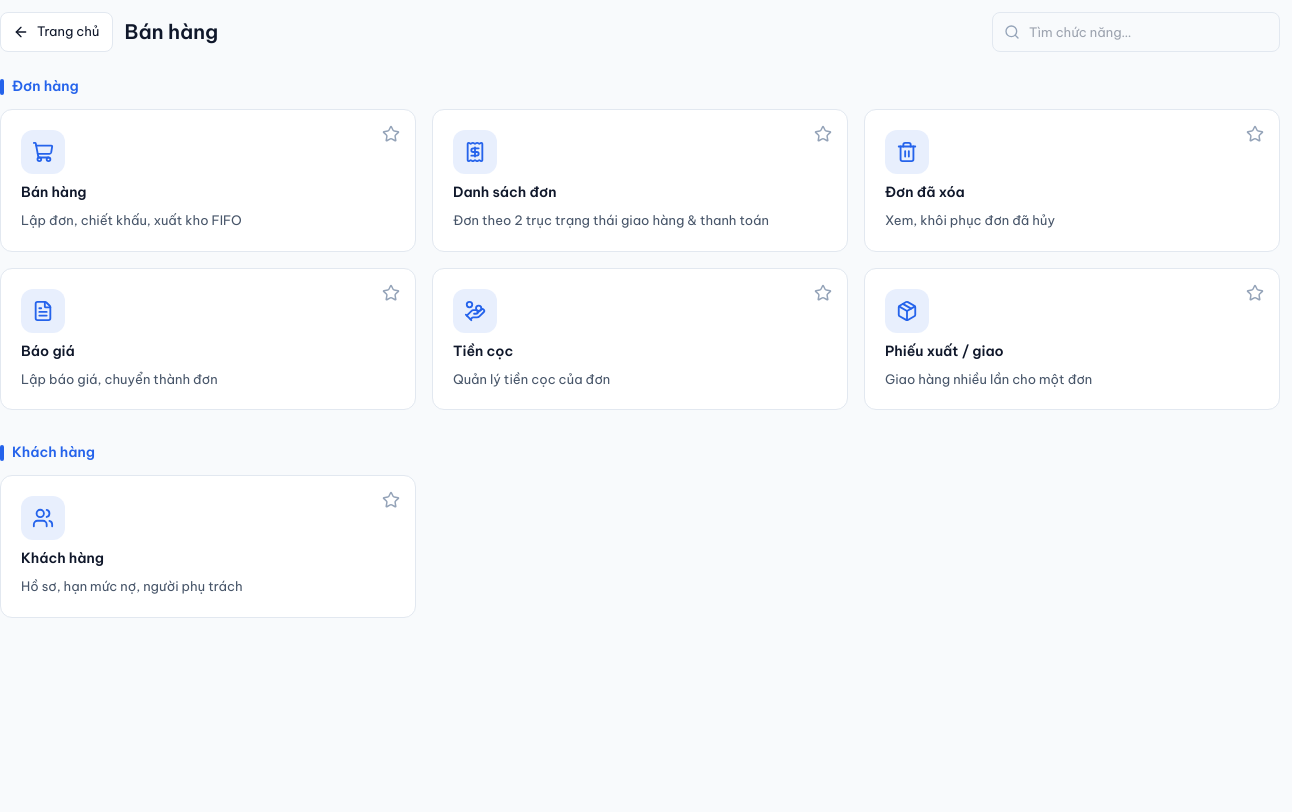
Test: ModuleLanding (tab Chức năng) — ngôi sao yêu thích › giữ card theo nhóm; bấm sao ghim/bỏ ghim mà KHÔNG mở chức năng (hai hành động độc lập)
The width and height of the screenshot is (1292, 812).
Expected: the heading "Đơn hàng" is shown, top-left (0, 77), bottom-right (79, 95)
Click the button named "Thêm Báo giá vào yêu thích" at [391, 292], box top-left (375, 276), bottom-right (407, 308)
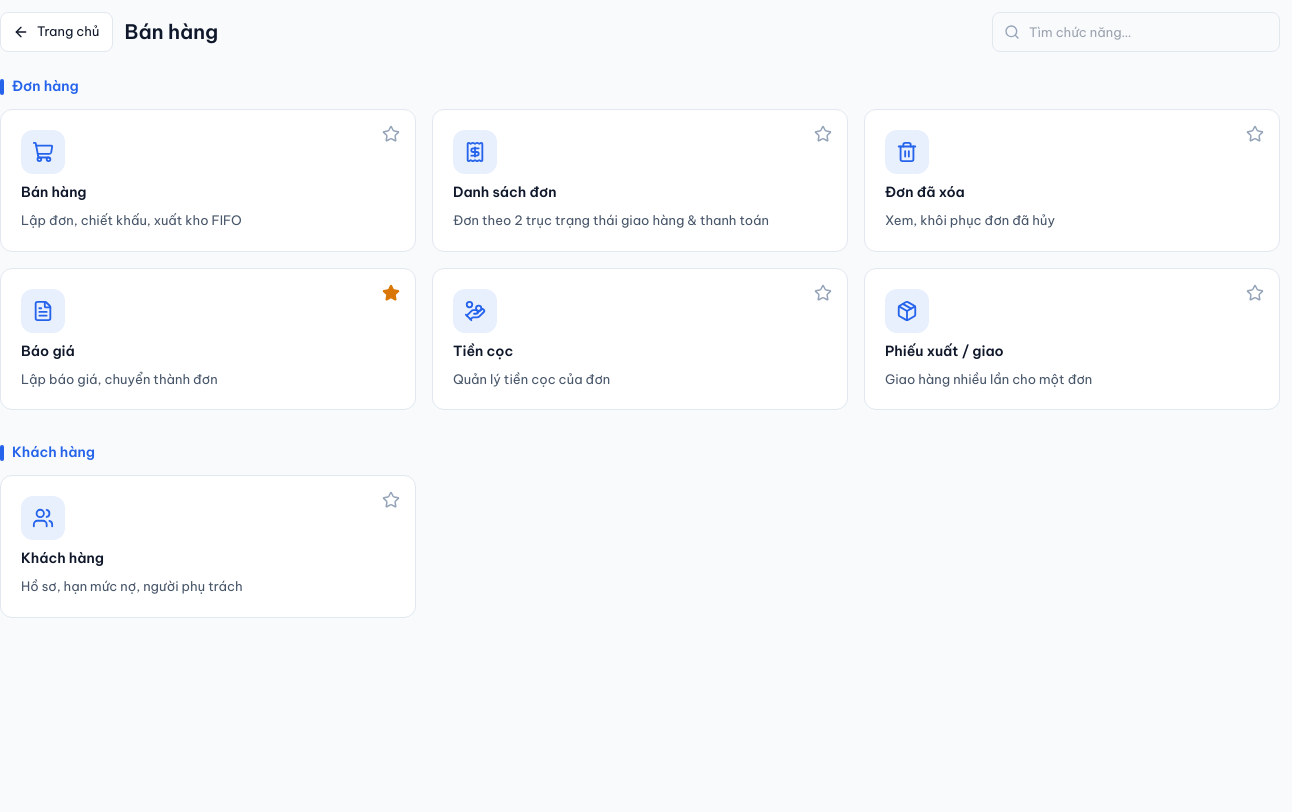
Expected: the button named "Bỏ yêu thích Báo giá" is pressed
Click the button named "Bỏ yêu thích Báo giá" at [391, 292], box top-left (375, 276), bottom-right (407, 308)
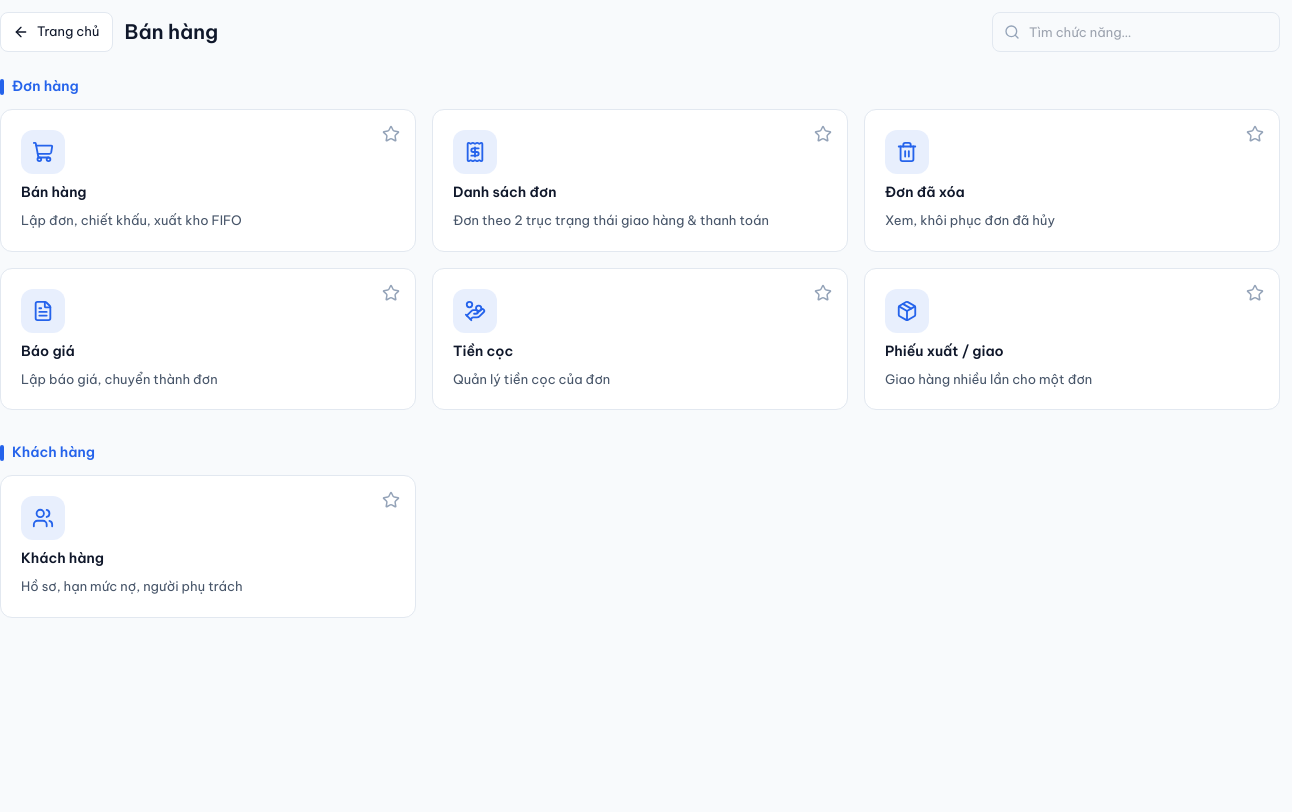
Expected: the button named "Thêm Báo giá vào yêu thích" is shown, top-left (375, 276), bottom-right (407, 308)
